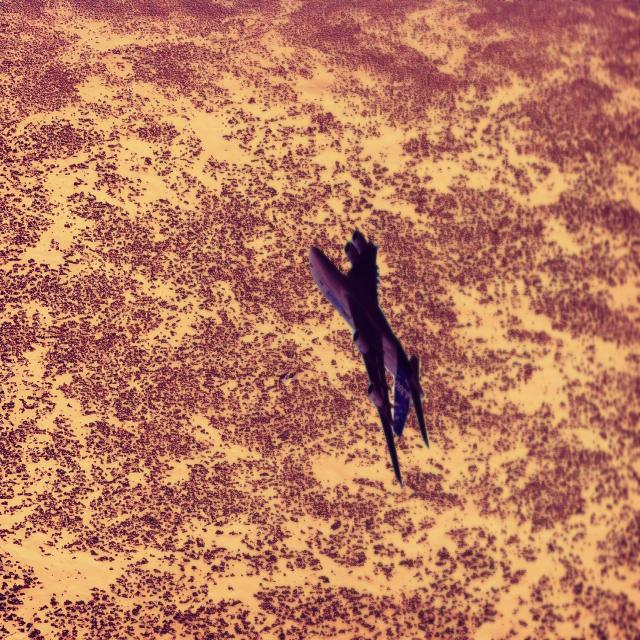airplane: (308, 228, 430, 490)
